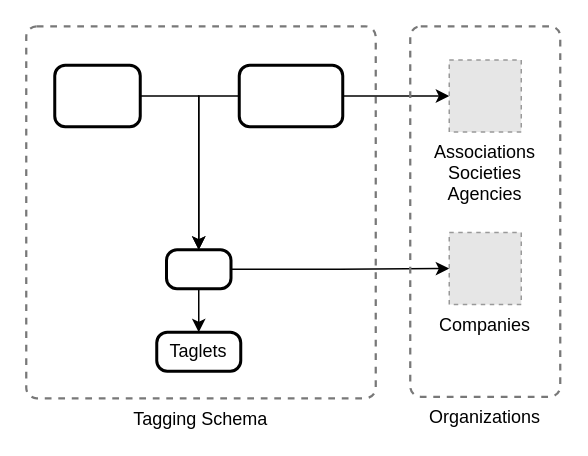
Some shapes in this 588 by 456 pixel diagram are drawn without their labels. Grey dashed boxes stand in for pictures. The centre of each missing label's shape, as x and y in pixels:
"Discipline Tags" goes at [290,95].
"Tag Groups" goes at [96,95].
"Tags" goes at [198,269].
